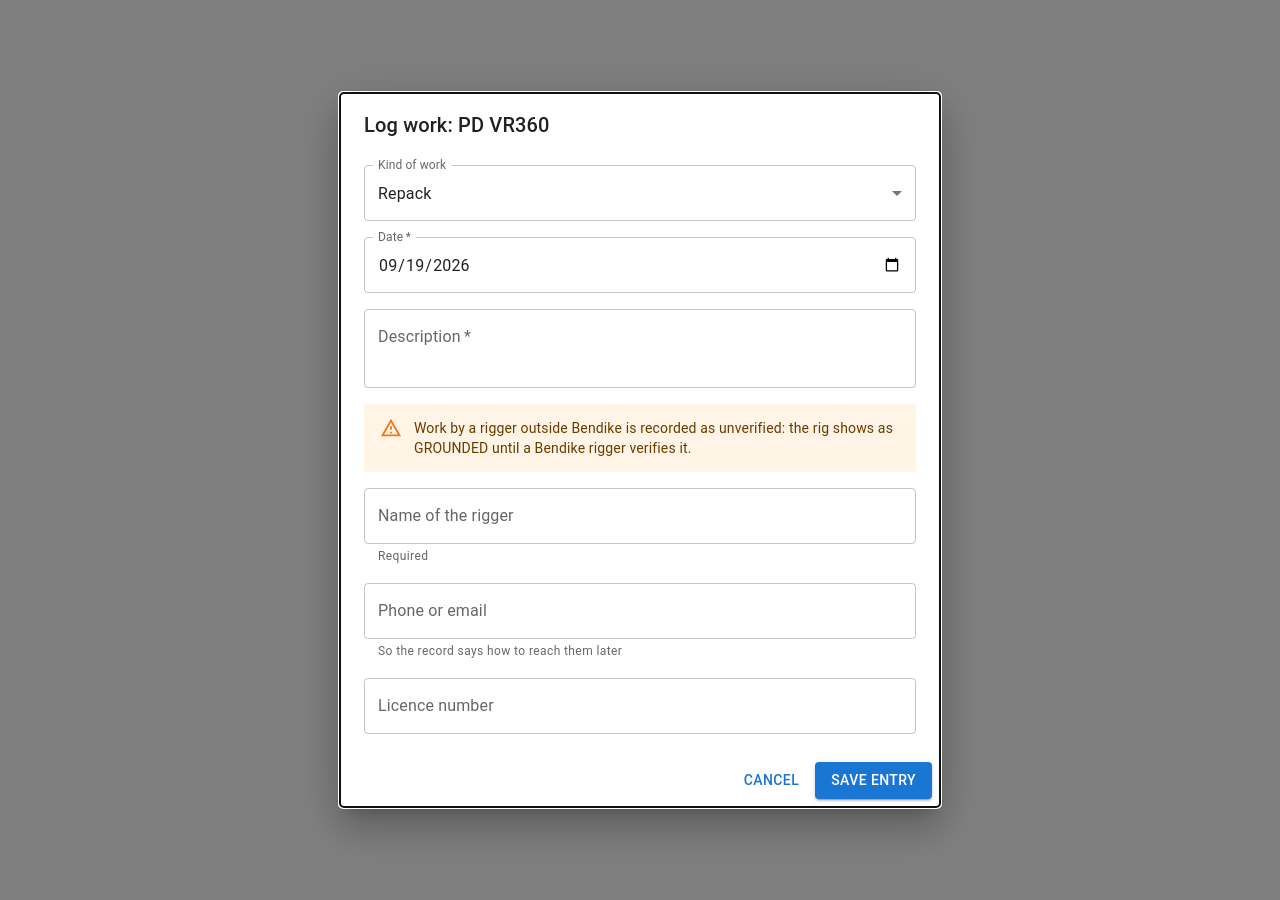
Scenario: EntryDialog for an owner › offers the riggers used before and fills their contact
Click the dropdown labelled "Name of the rigger": (640, 516) [373, 497, 907, 535]
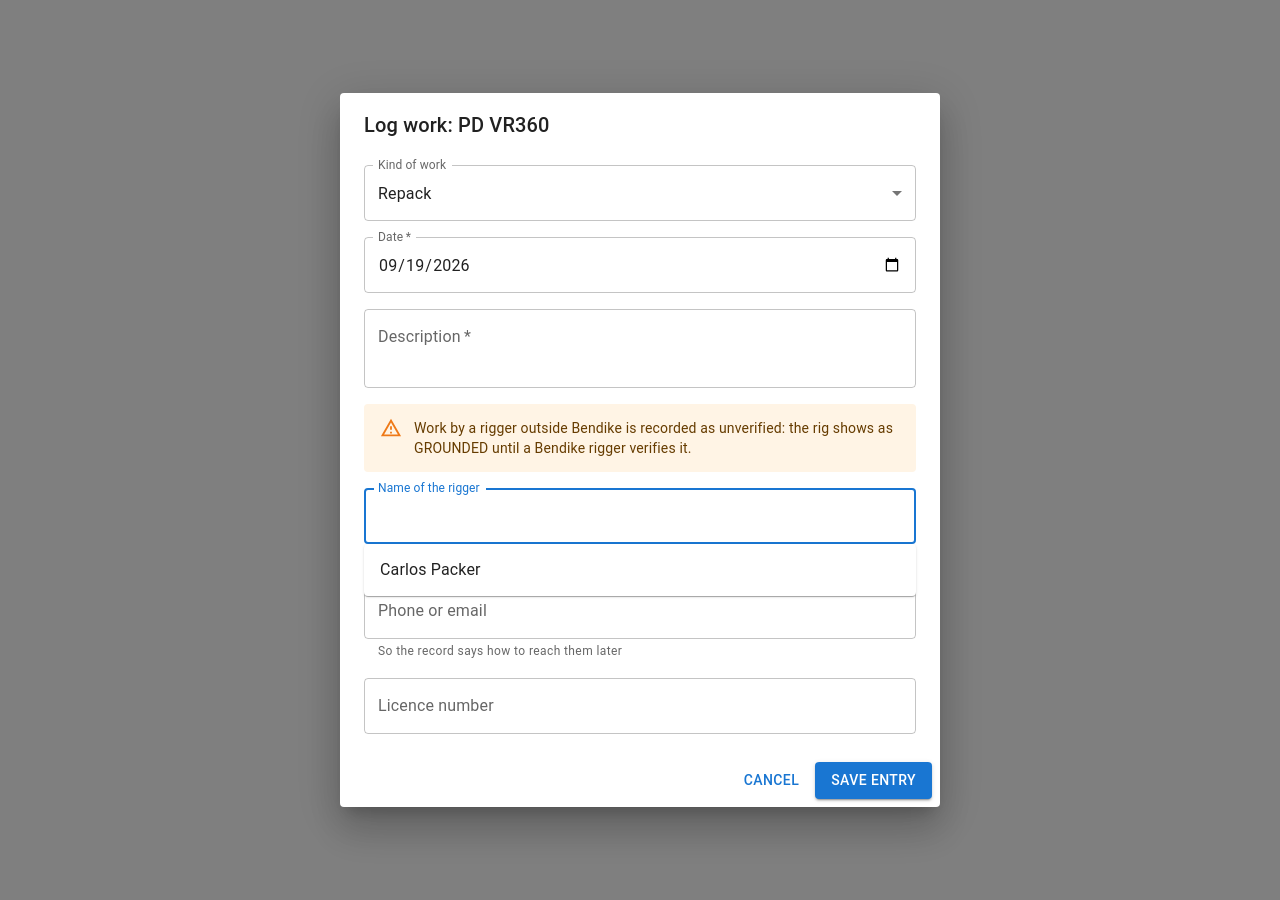
Click the option "Carlos Packer": (430, 570) [380, 560, 481, 579]
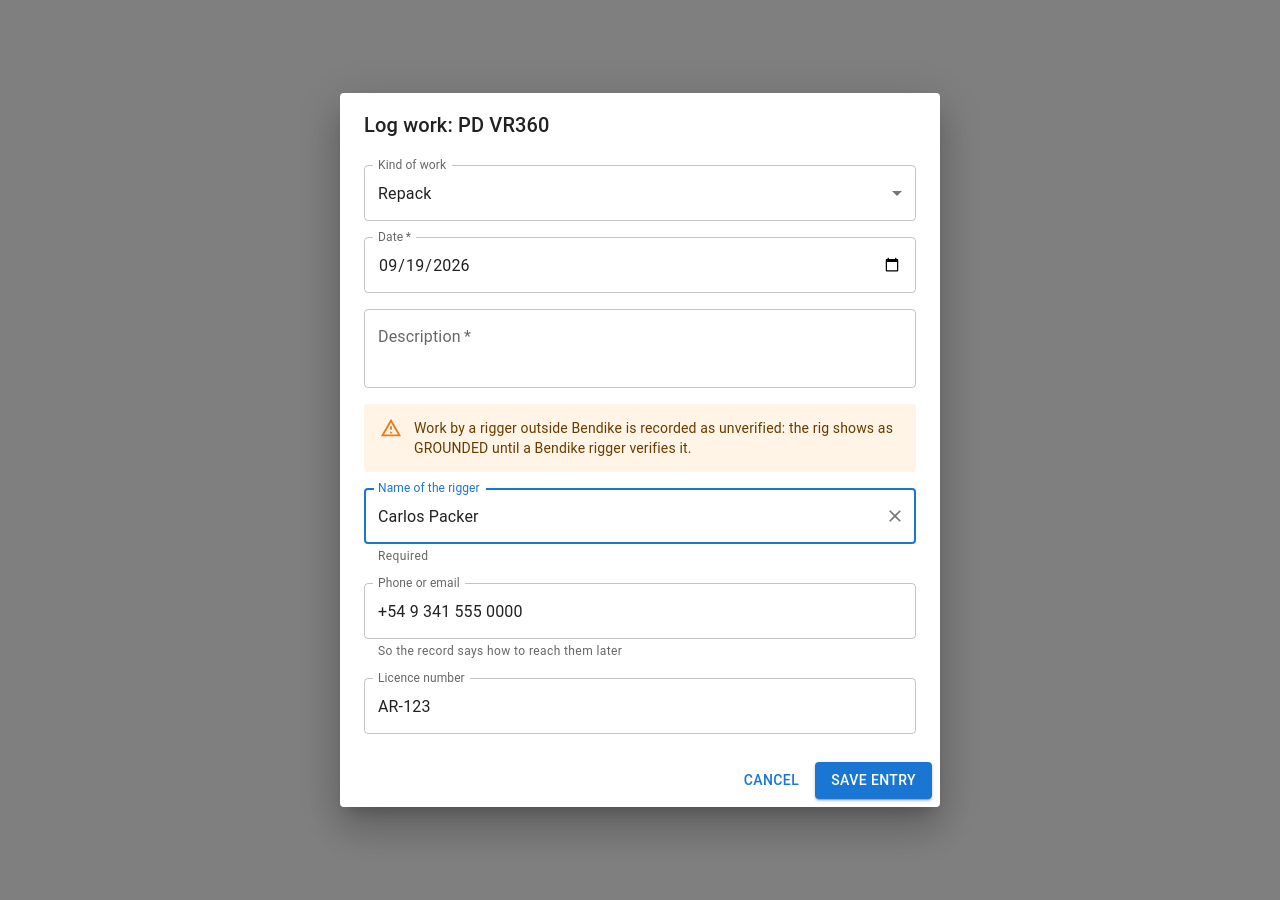
Expected: the field labelled "Phone or email" holds "+54 9 341 555 0000", [364, 583, 916, 639]
Expected: the field labelled "Licence number" holds "AR-123", [364, 678, 916, 734]
